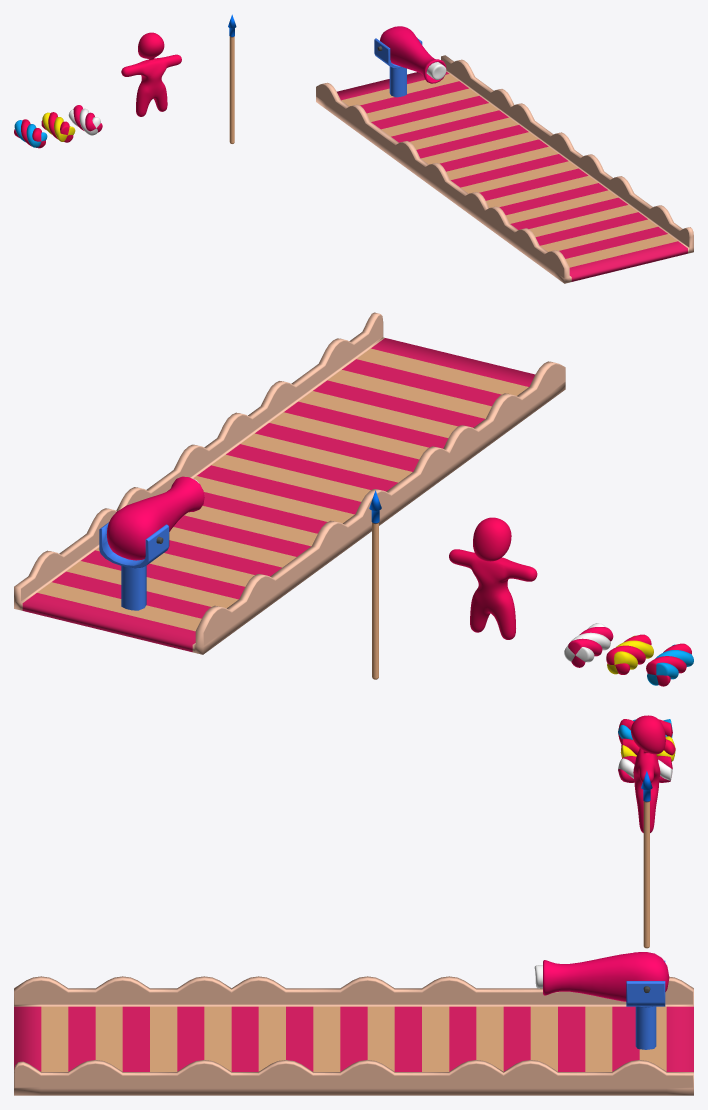
The model's file is candyCannonModels.fbx.
3 renders of one model, top to bottom at view 1: azimuth 30°, elevation 25°; view 2: azimuth 150°, elevation 25°; view 3: azimuth 270°, elevation 25°, orthographic. The views are drawn at different scales.
Visible parts, largest first — view 1: Куб.001, Куб.002, Cube, Куб, Куб.003, Marshmallow2.001, Marshmallow1.001, Marshmallow.001; view 2: Куб.001, Куб.002, Cube, Куб, Куб.003, Marshmallow1.001, Marshmallow.001, Marshmallow2.001; view 3: Куб.001, Cube, Куб.002, Куб, Куб.003, Marshmallow.001.
Part boxes in pixels (bbox=[...]): Куб.001: bbox=[316, 55, 693, 283]; Куб.002: bbox=[121, 32, 181, 116]; Cube: bbox=[377, 26, 446, 83]; Куб: bbox=[374, 38, 422, 97]; Куб.003: bbox=[228, 14, 236, 143]; Marshmallow2.001: bbox=[41, 112, 75, 142]; Marshmallow1.001: bbox=[14, 119, 47, 148]; Marshmallow.001: bbox=[68, 105, 102, 135]; Куб.001: bbox=[14, 312, 565, 654]; Куб.002: bbox=[449, 517, 537, 639]; Cube: bbox=[106, 476, 204, 560]; Куб: bbox=[99, 522, 169, 610]; Куб.003: bbox=[369, 490, 381, 679]; Marshmallow1.001: bbox=[646, 643, 693, 686]; Marshmallow.001: bbox=[564, 623, 613, 667]; Marshmallow2.001: bbox=[606, 634, 653, 674]; Куб.001: bbox=[14, 976, 693, 1095]; Cube: bbox=[543, 952, 669, 1001]; Куб.002: bbox=[631, 715, 665, 832]; Куб: bbox=[626, 960, 665, 1049]; Куб.003: bbox=[641, 771, 652, 948]; Marshmallow.001: bbox=[618, 756, 672, 782].
Size of the model in its own units: 3589 by 1008 by 3504.
